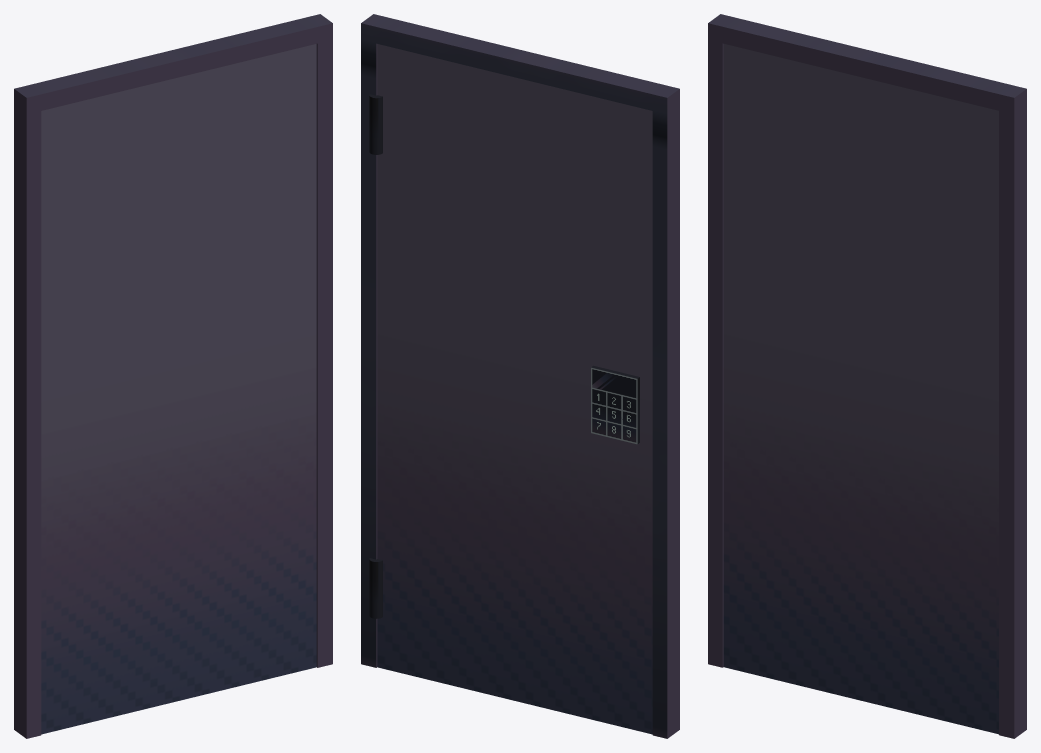
File: wh door.fbx
3 views of the same model, side by side, from view 1: azimuth 30°, elevation 25°; view 2: azimuth 150°, elevation 25°; view 3: azimuth 330°, elevation 25° (orthographic).
Parts seen in each view (by area): view 1: door, door frame; view 2: door, door frame, door accessories; view 3: door, door frame.
Boxes of the visible parts, left/top/right/bottom form: door: left=41, top=44, right=316, bottom=734; door frame: left=14, top=14, right=332, bottom=738; door: left=377, top=44, right=652, bottom=734; door frame: left=361, top=14, right=679, bottom=738; door accessories: left=369, top=94, right=639, bottom=618; door: left=723, top=44, right=998, bottom=734; door frame: left=708, top=14, right=1026, bottom=738.
Size of the model in its own units: 100 by 200 by 8.76.
3 materials, 3 textured.
